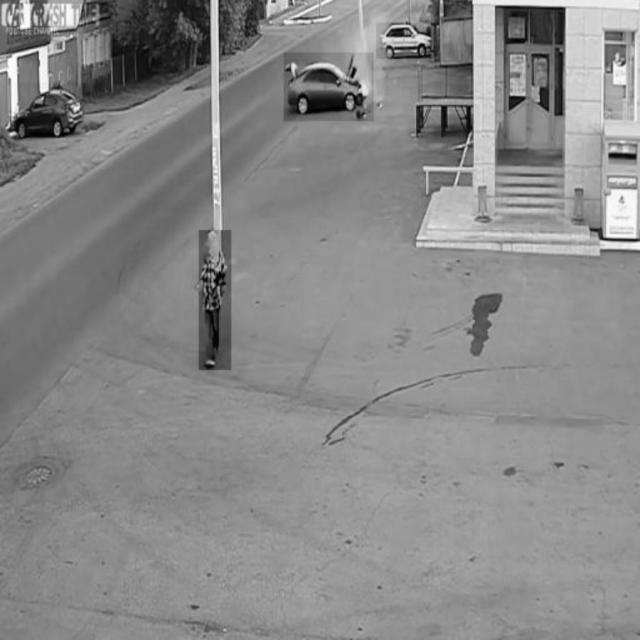accident: (284, 53, 374, 121)
person: (200, 230, 232, 370)
vehicle: (14, 84, 85, 139), (376, 23, 434, 59)
